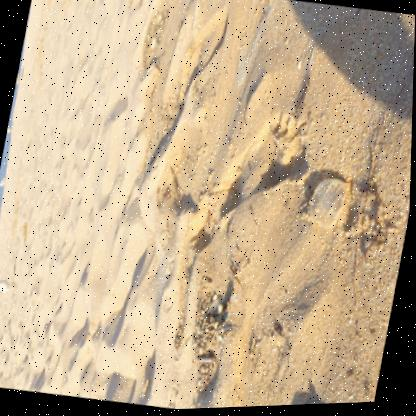Plastic: (310, 180, 351, 229), (211, 297, 227, 316)
